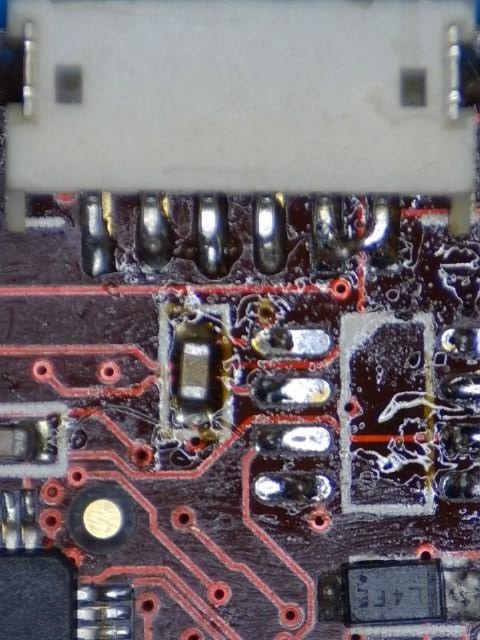pcb_defect: (313, 194, 400, 272)
